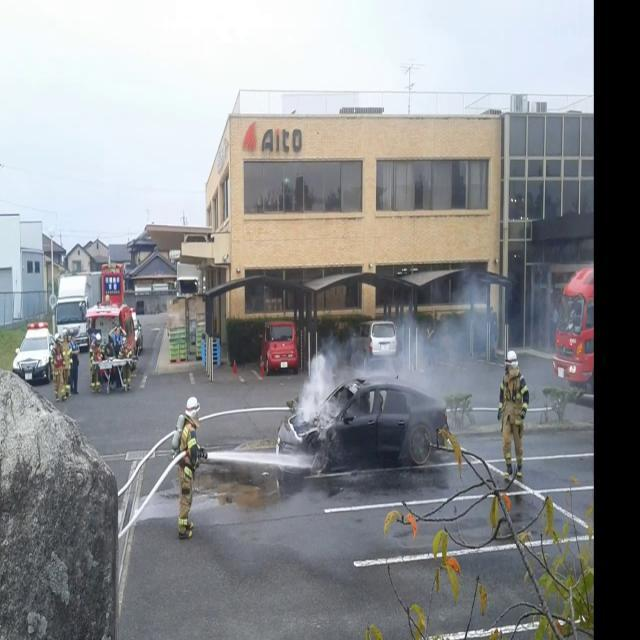Smoke: (295, 272, 548, 439)
